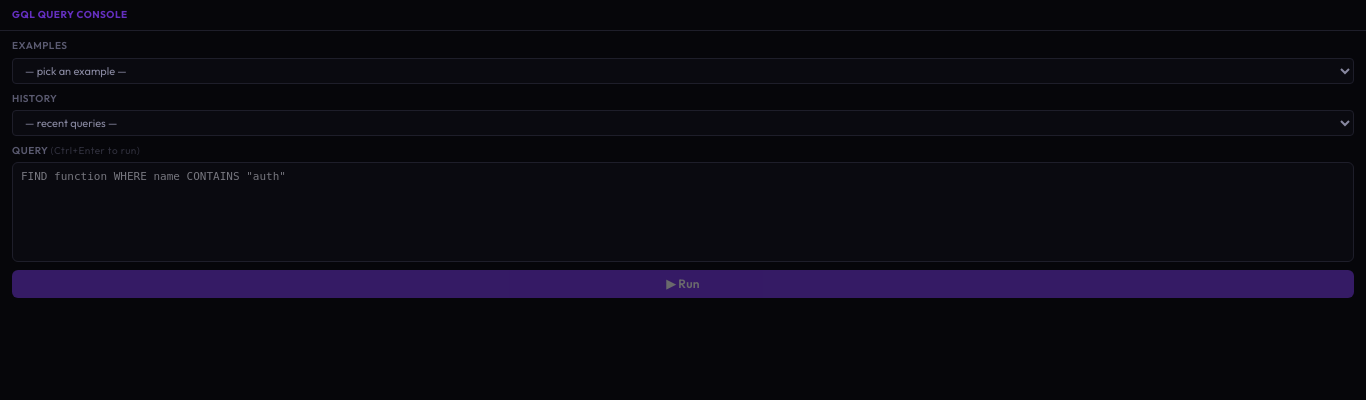
Test: QueryPanel › renders plain node results
Type "FIND function" into the text box with placeholder "FIND function WHERE name CONTAINS \"auth\"". click: (683, 212)
box: [12,162,1354,262]
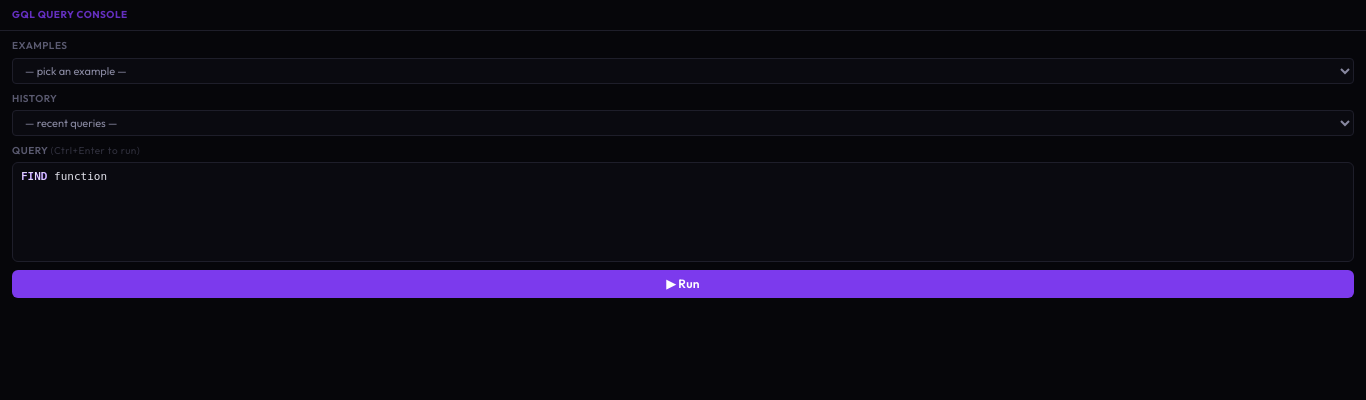
Click the button "▶ Run". click: (683, 284)
box: [12,270,1354,298]
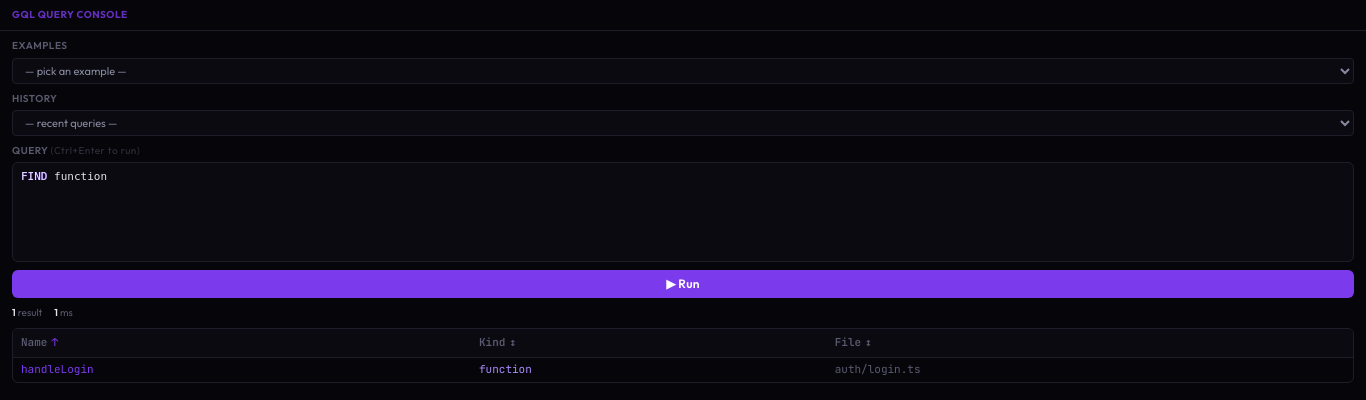
Check: the text "handleLogin" is shown, box [13,358,471,382]
Check: the column heading "Name" is shown, box [21,335,47,349]
